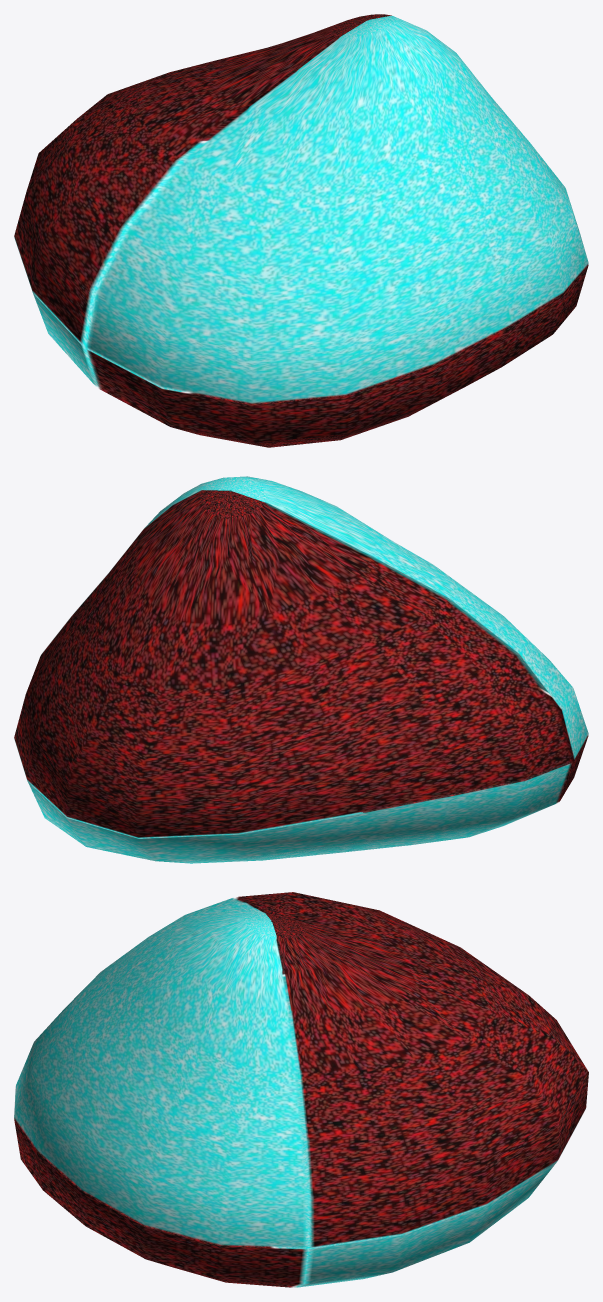
3 renders of one model, top to bottom at view 1: azimuth 30°, elevation 25°; view 2: azimuth 150°, elevation 25°; view 3: azimuth 270°, elevation 25°, orthographic. The views are drawn at different scales.
Visible parts, largest first — view 1: SM_VFX_LowDetailSplat_LOD0; view 2: SM_VFX_LowDetailSplat_LOD0; view 3: SM_VFX_LowDetailSplat_LOD0.
Boxes of the visible parts, bbox=[...] form: SM_VFX_LowDetailSplat_LOD0: bbox=[14, 14, 588, 447]; SM_VFX_LowDetailSplat_LOD0: bbox=[14, 476, 588, 863]; SM_VFX_LowDetailSplat_LOD0: bbox=[14, 892, 588, 1287].
Bounding box in the file's own units: 1.87 × 1.13 × 1.88.
Materials: 1 (1 with a texture image).
